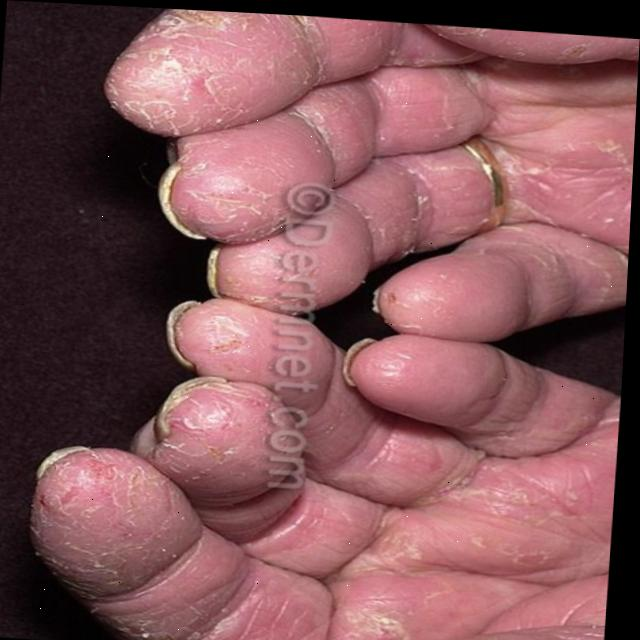Eczema: (37, 15, 620, 640)
